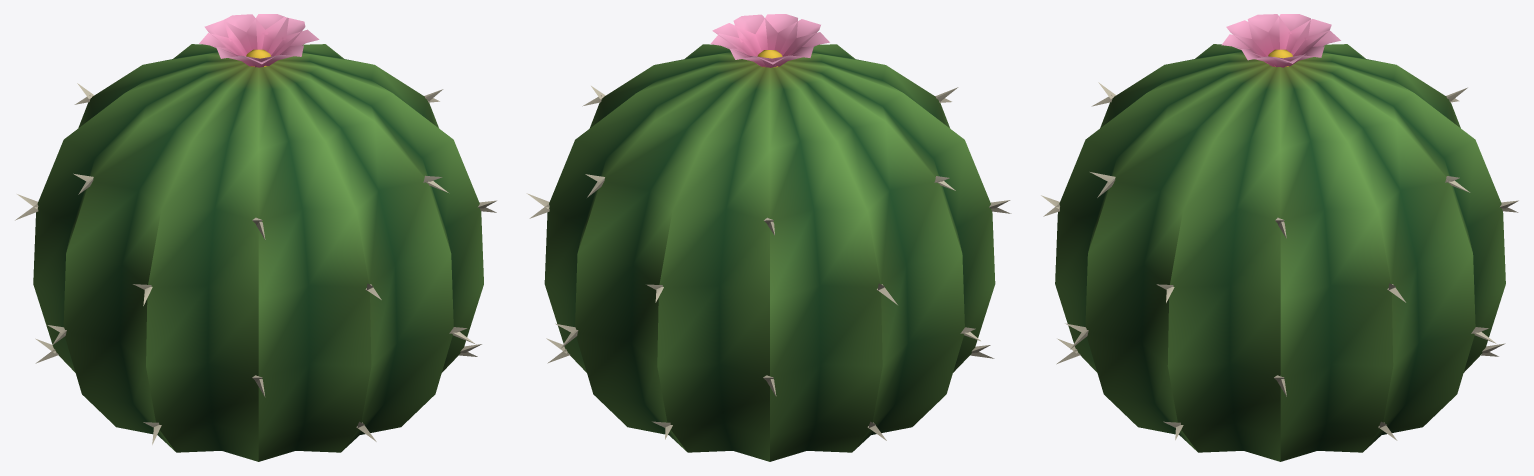
The model's file is cactus_round.glb.
The picture shows the model from 3 angles, left to right: view 1: azimuth 30°, elevation 25°; view 2: azimuth 150°, elevation 25°; view 3: azimuth 270°, elevation 25°; orthographic projection.
Visible parts, largest first — view 1: cactus_round; view 2: cactus_round; view 3: cactus_round.
Part boxes in pixels (x1,y1,x2,y2): cactus_round: [15, 14, 496, 461]; cactus_round: [526, 14, 1011, 461]; cactus_round: [1041, 14, 1518, 461].
Size of the model in its own units: 0.8572 by 0.6917 by 0.8417.
